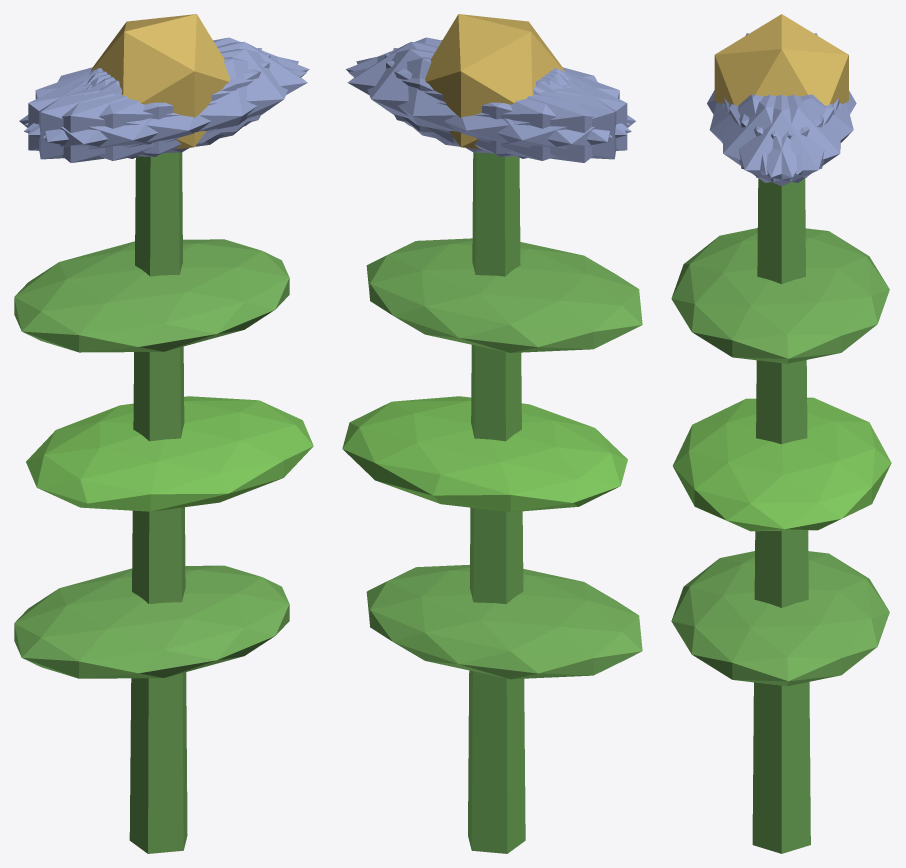
The model's file is alternanthera-flavescens.glb.
3 renders of one model, left to right at view 1: azimuth 30°, elevation 25°; view 2: azimuth 150°, elevation 25°; view 3: azimuth 270°, elevation 25°, orthographic.
Visible parts, largest first — view 1: stem, leaf1, leaf2, leaf0, center, petal1, petal6, petal2, petal5, petal7, petal0, petal4 (+2 smaller); view 2: stem, leaf1, leaf2, leaf0, center, petal8, petal3, petal7, petal4, petal2, petal0, petal5 (+2 smaller); view 3: stem, leaf1, leaf2, leaf0, center, petal0, petal4, petal5, petal8, petal1.
Part boxes in pixels (<box>): stem: <box>129,152,187,853</box>; leaf1: <box>26,396,313,511</box>; leaf2: <box>14,239,289,352</box>; leaf0: <box>14,565,289,678</box>; center: <box>90,14,230,149</box>; petal1: <box>24,57,306,160</box>; petal6: <box>19,69,224,162</box>; petal2: <box>39,48,261,159</box>; petal5: <box>43,49,298,153</box>; petal7: <box>28,54,270,156</box>; petal0: <box>90,41,307,143</box>; petal4: <box>25,37,309,135</box>; stem: <box>468,152,525,853</box>; leaf1: <box>342,396,627,512</box>; leaf2: <box>366,238,642,352</box>; leaf0: <box>366,564,642,679</box>; center: <box>425,14,564,149</box>; petal8: <box>348,57,631,160</box>; petal3: <box>431,69,635,162</box>; petal7: <box>393,48,616,159</box>; petal4: <box>356,49,612,153</box>; petal2: <box>385,54,627,156</box>; petal0: <box>347,41,564,143</box>; petal5: <box>346,37,630,135</box>; stem: <box>752,178,810,853</box>; leaf1: <box>673,397,891,531</box>; leaf2: <box>671,228,889,363</box>; leaf0: <box>671,551,889,686</box>; center: <box>714,14,848,105</box>; petal0: <box>724,95,839,186</box>; petal4: <box>729,95,840,182</box>; petal5: <box>722,95,834,182</box>; petal8: <box>739,94,853,174</box>; petal1: <box>709,94,823,174</box>.
Size of the model in its own units: 0.1496 by 0.4077 by 0.1005.
